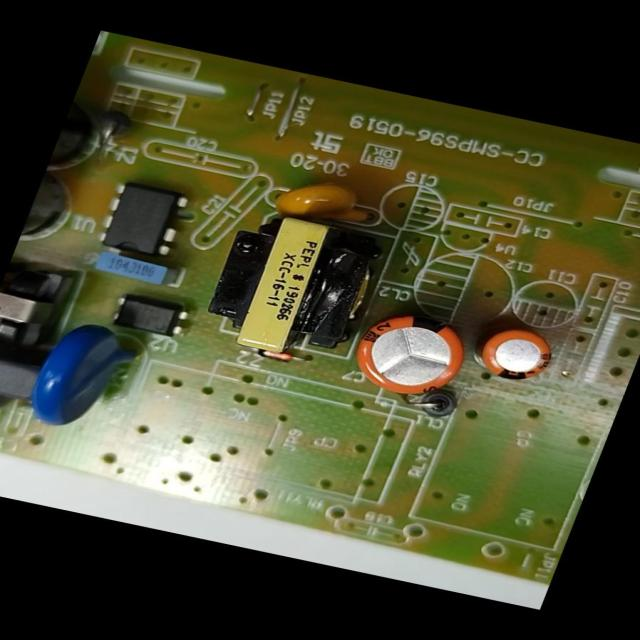Cap1: (334, 301, 484, 404)
Cap2: (464, 316, 570, 390)
Cap3: (14, 172, 87, 260)
Cap4: (44, 94, 121, 185)
MOSFET: (86, 173, 202, 265)
Mov: (13, 310, 158, 442)
Resistor: (0, 382, 17, 441)
Transformer: (187, 201, 407, 372), (0, 250, 93, 360)
